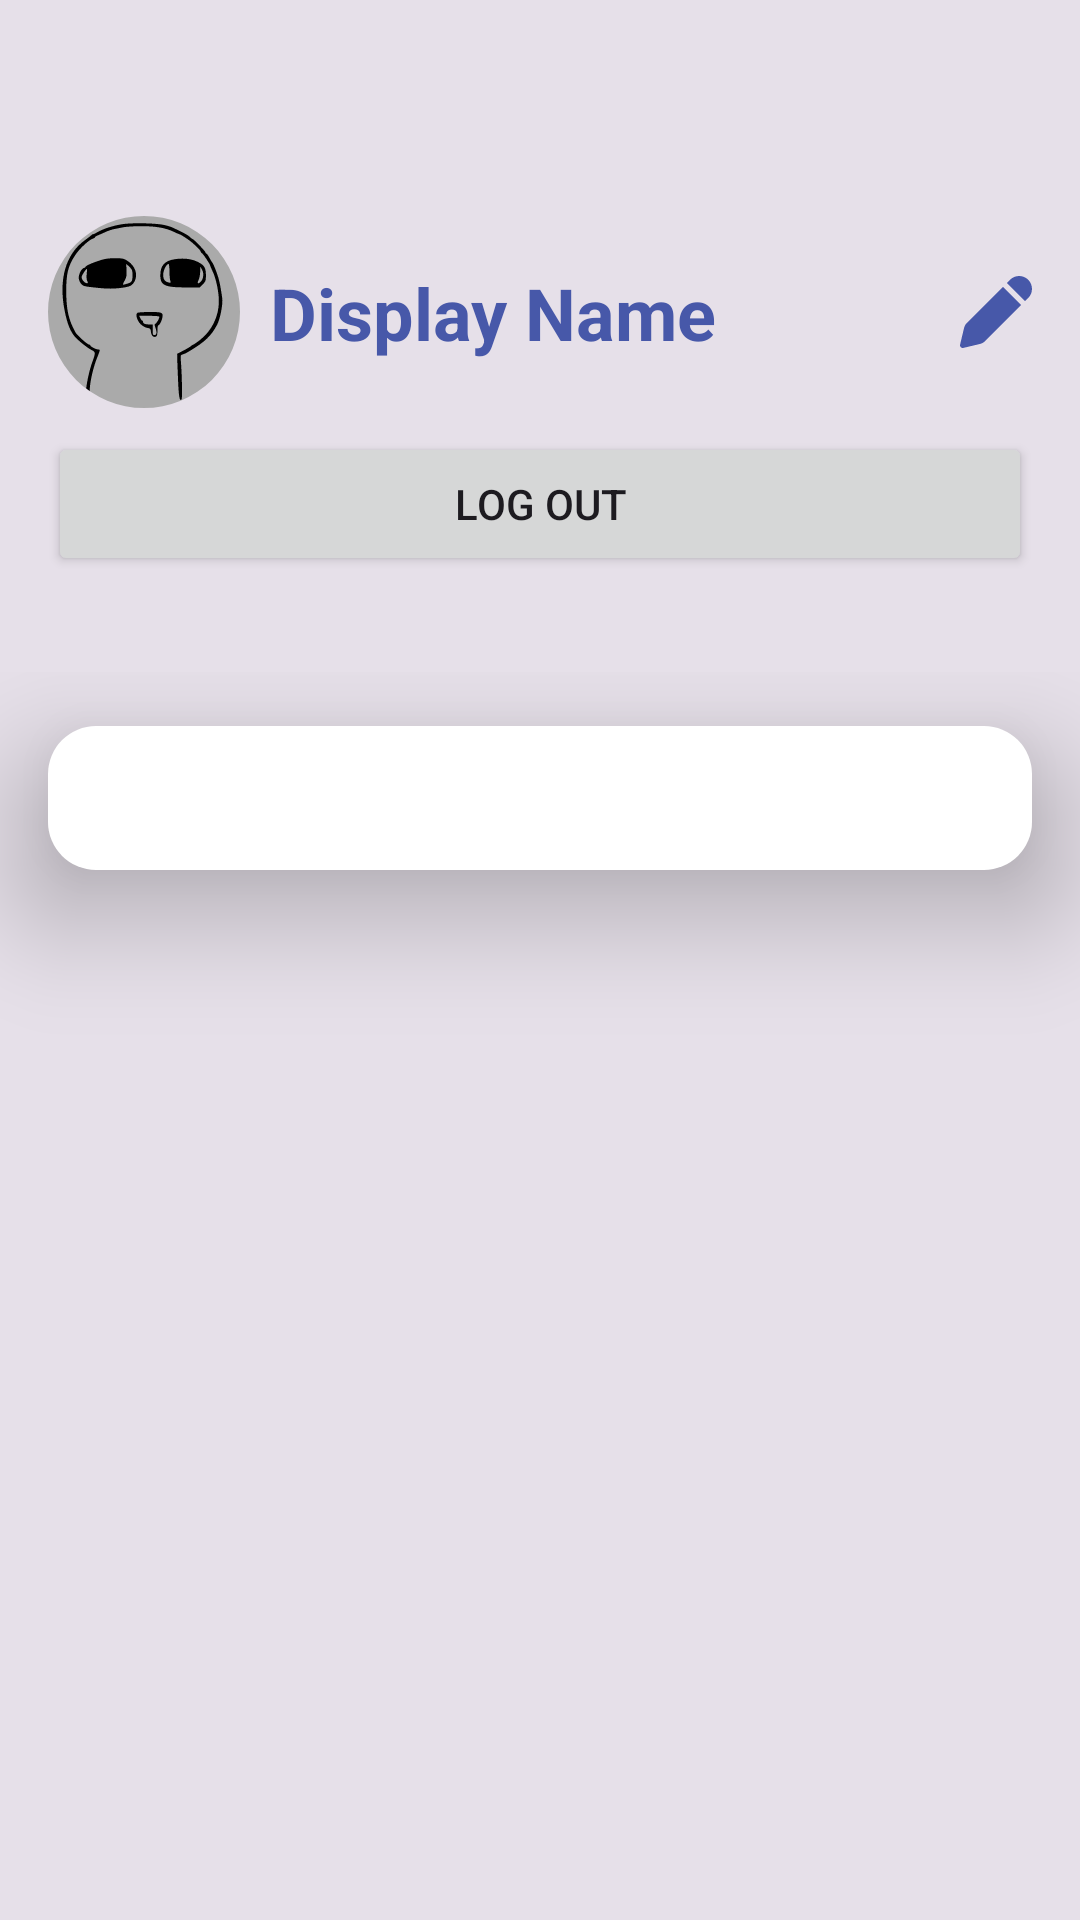

Screen size 1080 x 1920. Icon name, then its center in pixels as (x=x, y=y):
up edit: (x=996, y=312)
